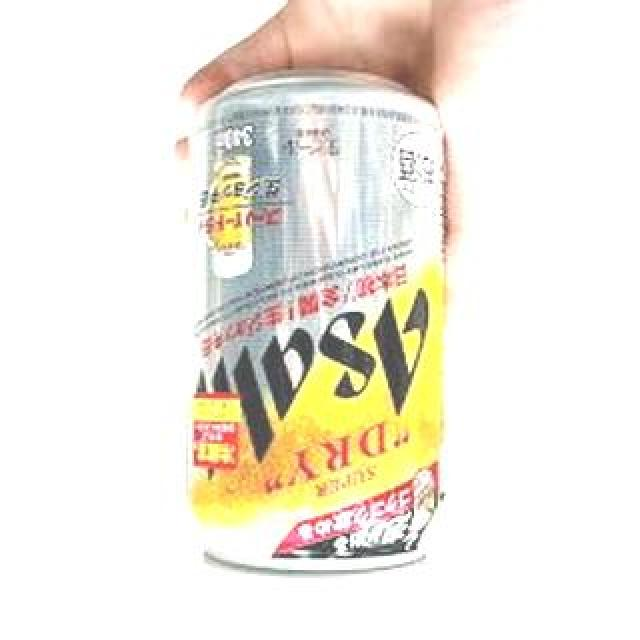Can: (178, 74, 452, 588)
